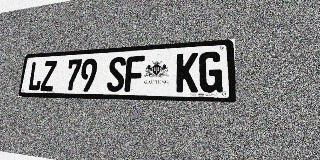7: (64, 59, 82, 91)
9: (79, 58, 98, 92)
F: (124, 55, 145, 92)
G: (199, 51, 223, 93)
K: (176, 52, 198, 92)
L: (27, 61, 44, 91)
S: (106, 57, 126, 92)
Z: (40, 60, 57, 91)
